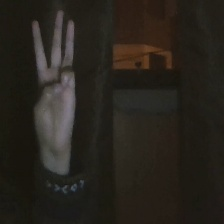W: (21, 1, 84, 163)
